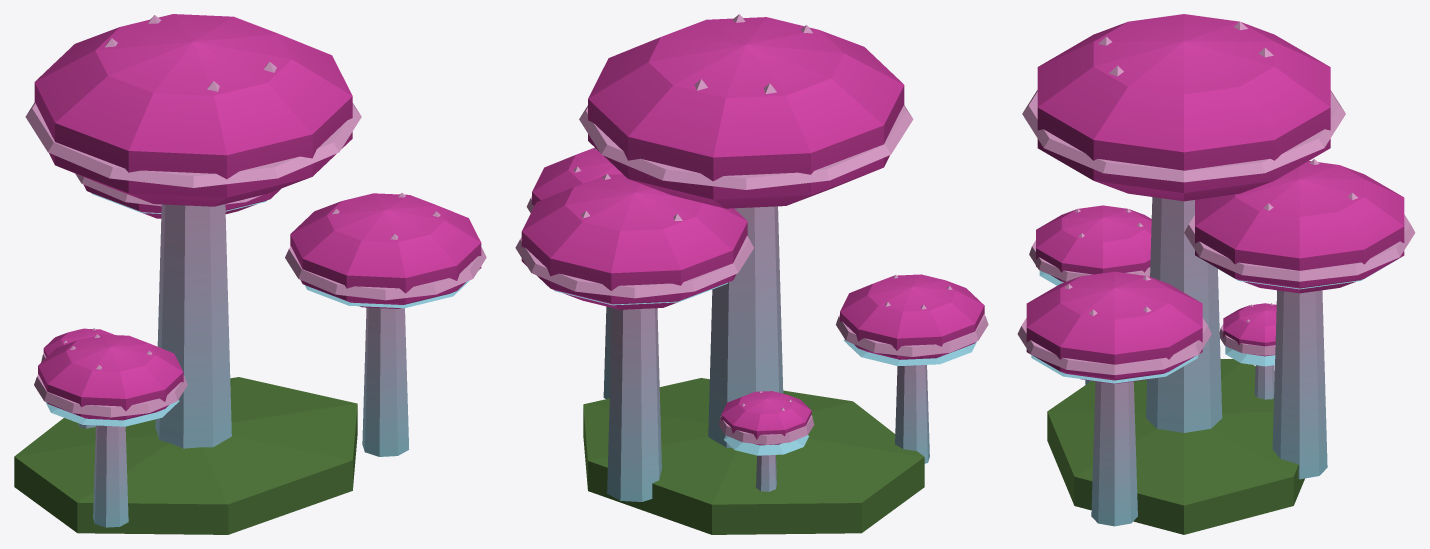
The model's file is neon_mushrooms_pink.glb.
3 views of the same model, side by side, from view 1: azimuth 30°, elevation 25°; view 2: azimuth 150°, elevation 25°; view 3: azimuth 270°, elevation 25° (orthographic). The views are drawn at different scales.
Visible parts, largest first — view 1: neon_mushrooms_pink; view 2: neon_mushrooms_pink; view 3: neon_mushrooms_pink.
Boxes of the visible parts, x1,y1,x2,y2 form: neon_mushrooms_pink: (14,14,486,534); neon_mushrooms_pink: (515,14,988,534); neon_mushrooms_pink: (1017,14,1415,534).
Size of the model in its own units: 2.09 by 2.05 by 1.72.
